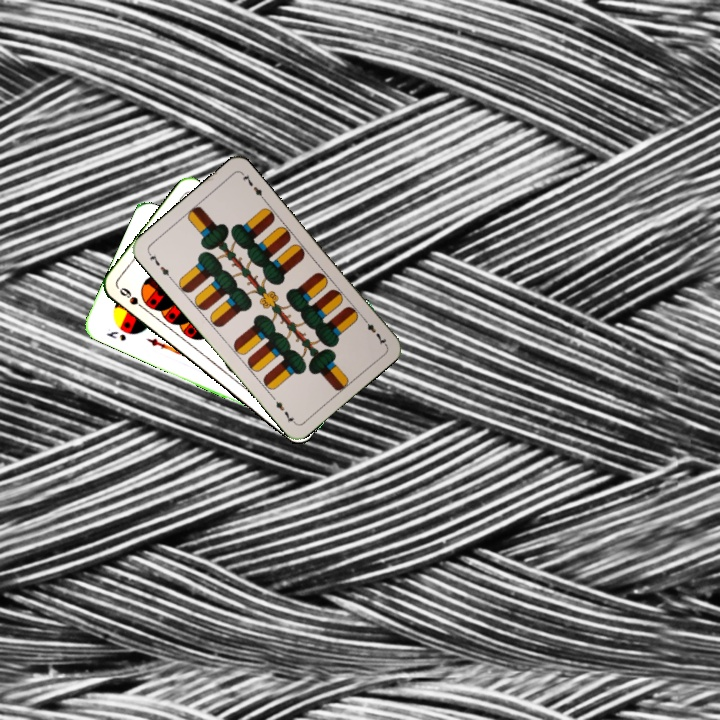E7: (144, 248, 175, 282), (359, 313, 389, 348)
S9: (115, 283, 149, 314)
SK: (102, 327, 129, 344)
